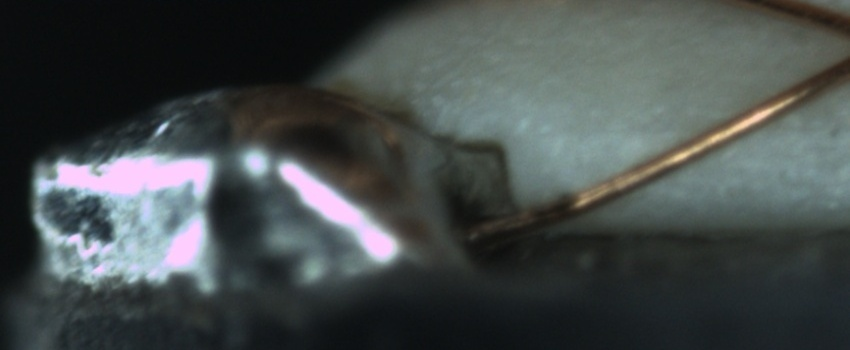DL: (552, 100, 836, 161)
